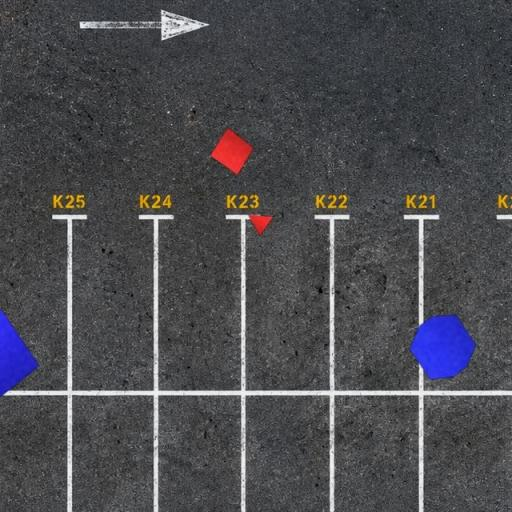BLUE_SQUARE: (0, 309, 40, 410)
RED_SQUARE: (210, 126, 254, 176)
